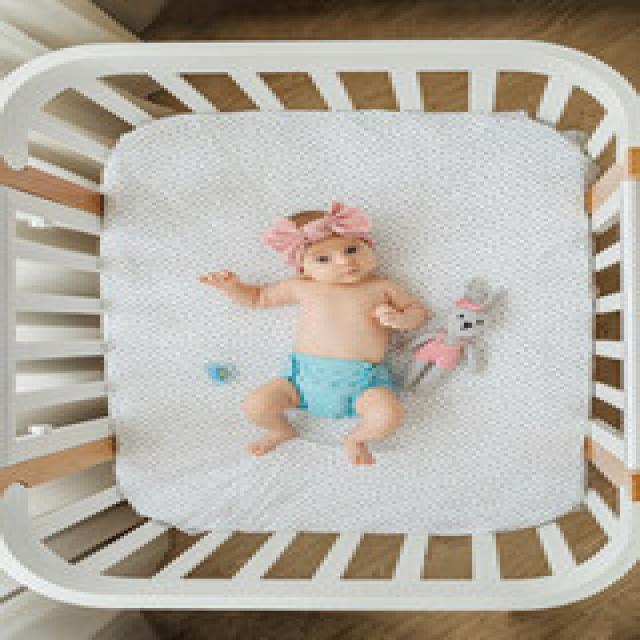baby: (192, 197, 432, 467)
crib: (0, 35, 636, 613)
